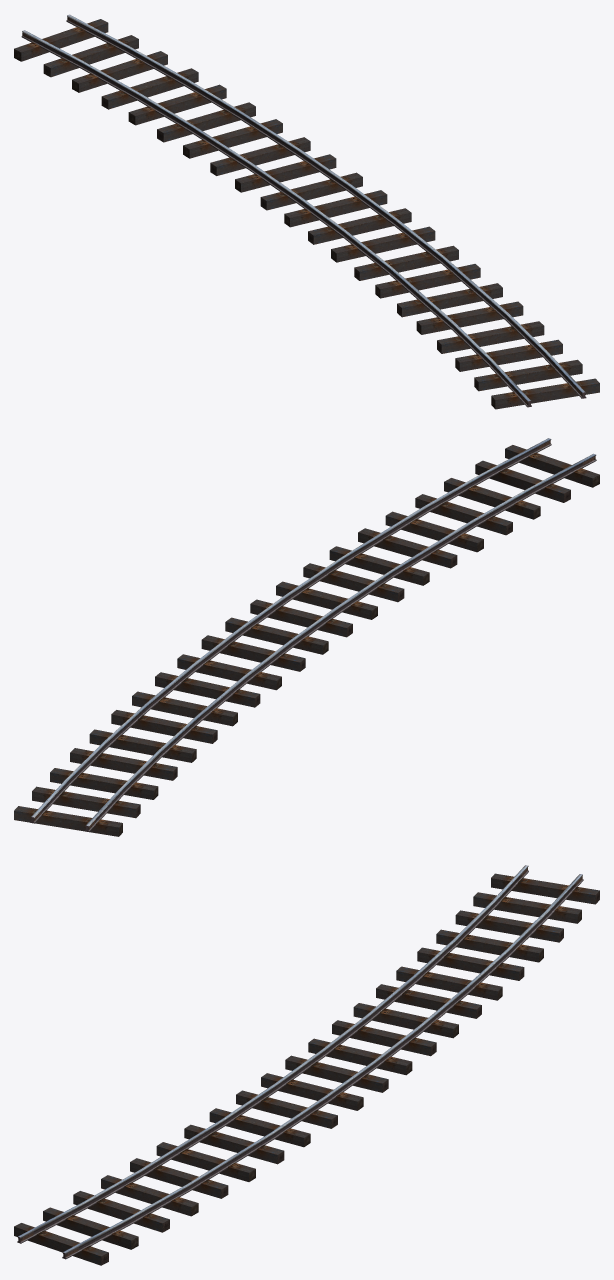
Rendered from rail_bend.fbx.
3 renders of one model, top to bottom at view 1: azimuth 30°, elevation 25°; view 2: azimuth 150°, elevation 25°; view 3: azimuth 330°, elevation 25°, orthographic.
Visible parts, largest first — view 1: Rail_bend; view 2: Rail_bend; view 3: Rail_bend.
Boxes of the visible parts, x1,y1,x2,y2 form: Rail_bend: (14, 14, 599, 409); Rail_bend: (14, 438, 599, 836); Rail_bend: (14, 865, 599, 1265).
Size of the model in its own units: 234 by 24.44 by 1606.
